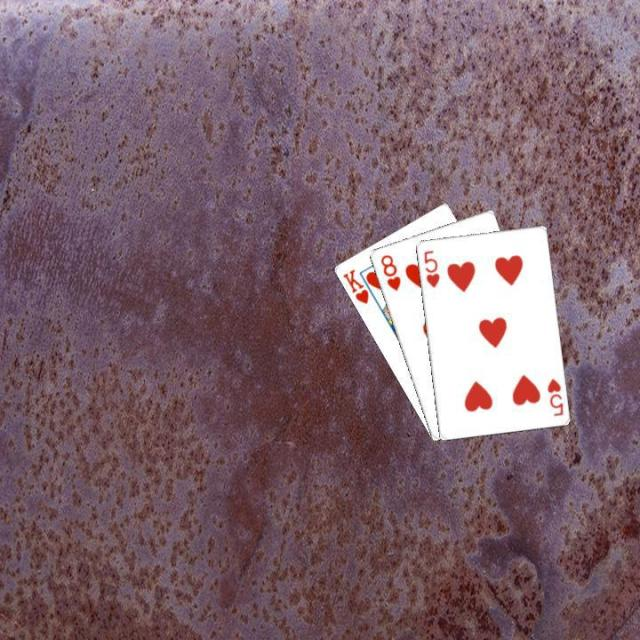5H: (543, 374, 565, 418), (419, 246, 441, 289)
8H: (376, 250, 403, 292)
KH: (338, 265, 371, 306)
